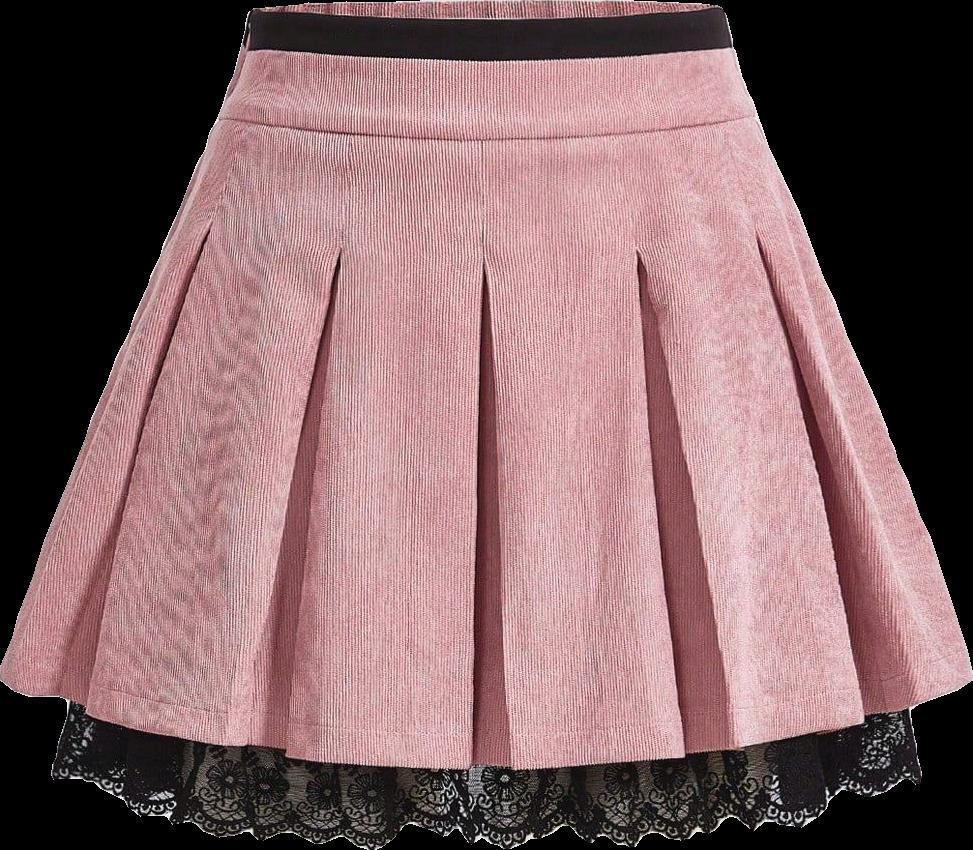Hemline: (0, 671, 972, 775), (50, 772, 921, 849)
Waistline: (216, 108, 759, 145), (249, 0, 725, 28)
